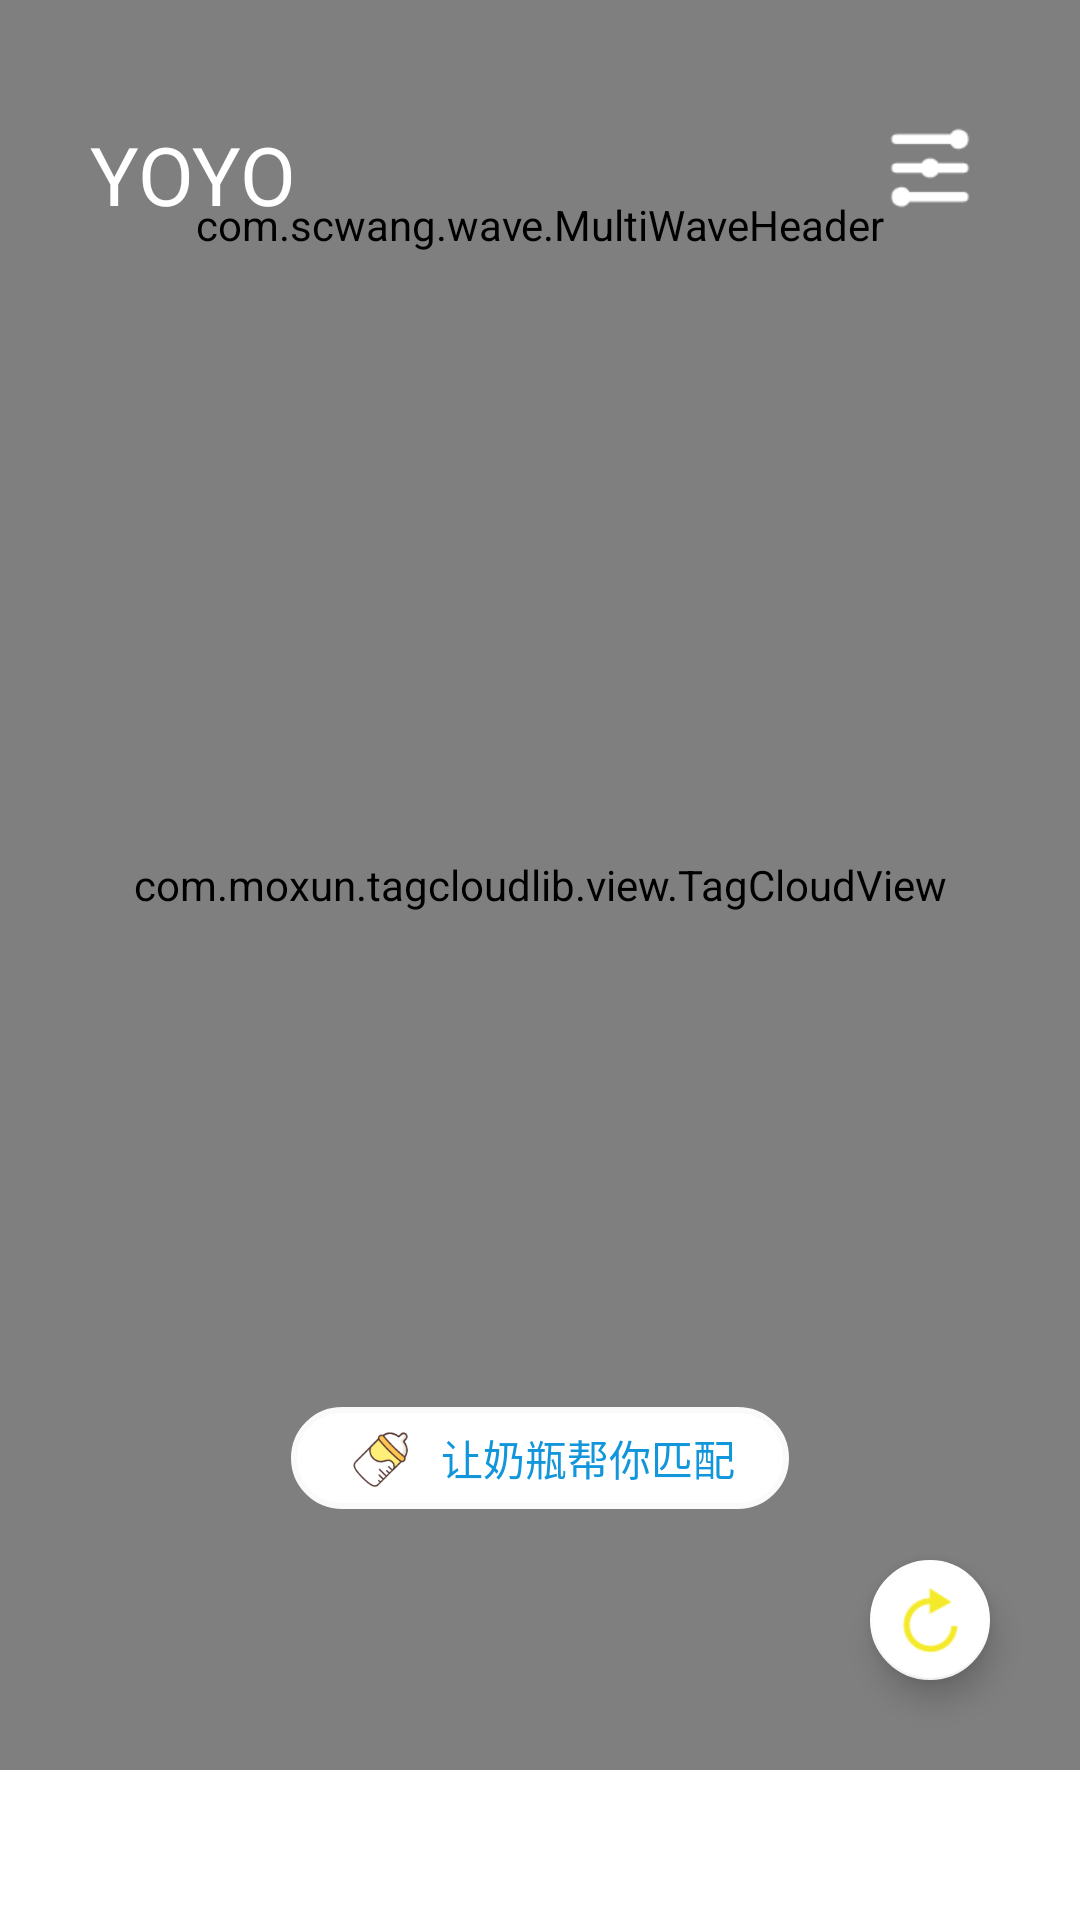

Screen size 1080*1920. Icon name, then its center in pixels as (x=x, y=y):
home title setting: (x=930, y=168)
